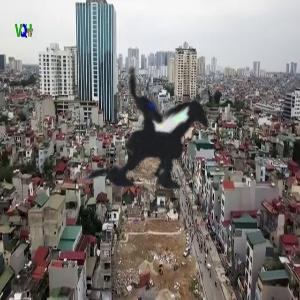drone: (28, 18, 296, 286)
